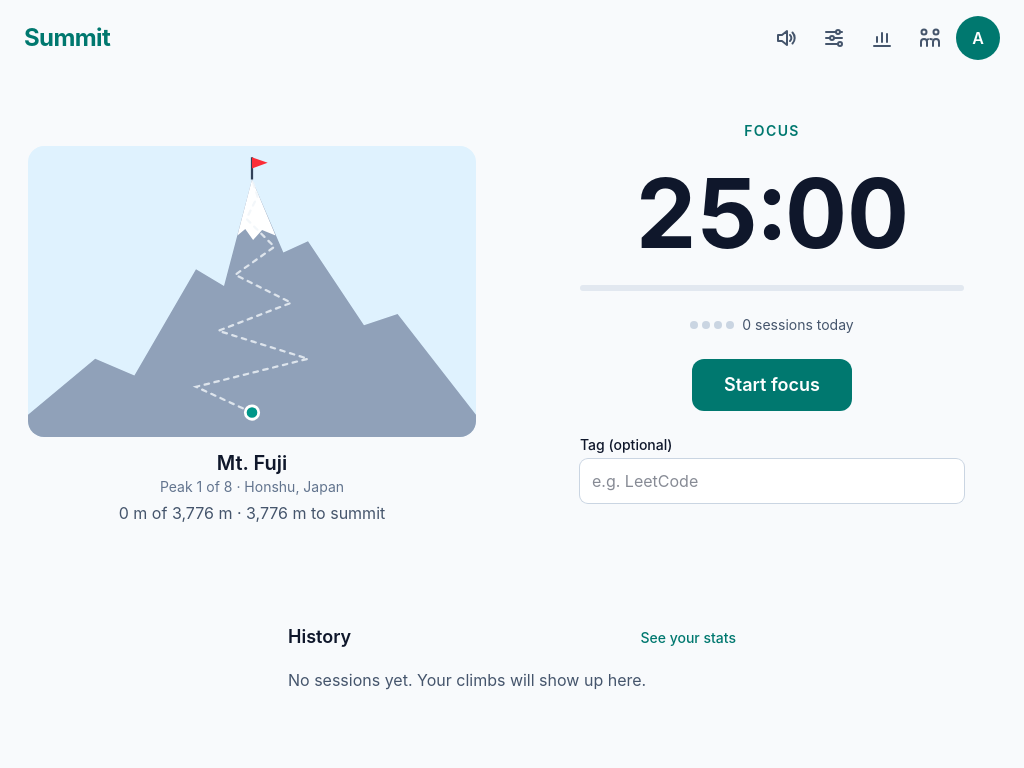
signed in › says so when the server won't accept a session finished offline
The width and height of the screenshot is (1024, 768).
Expected: the link named "Account (Ana)" is shown, [956,16,1000,60]
Expected: the picture named "Climber at" is shown, [28,146,476,437]
Click the button "Start focus" at (772, 384), box [692,358,852,410]
Wait 1500000 ms
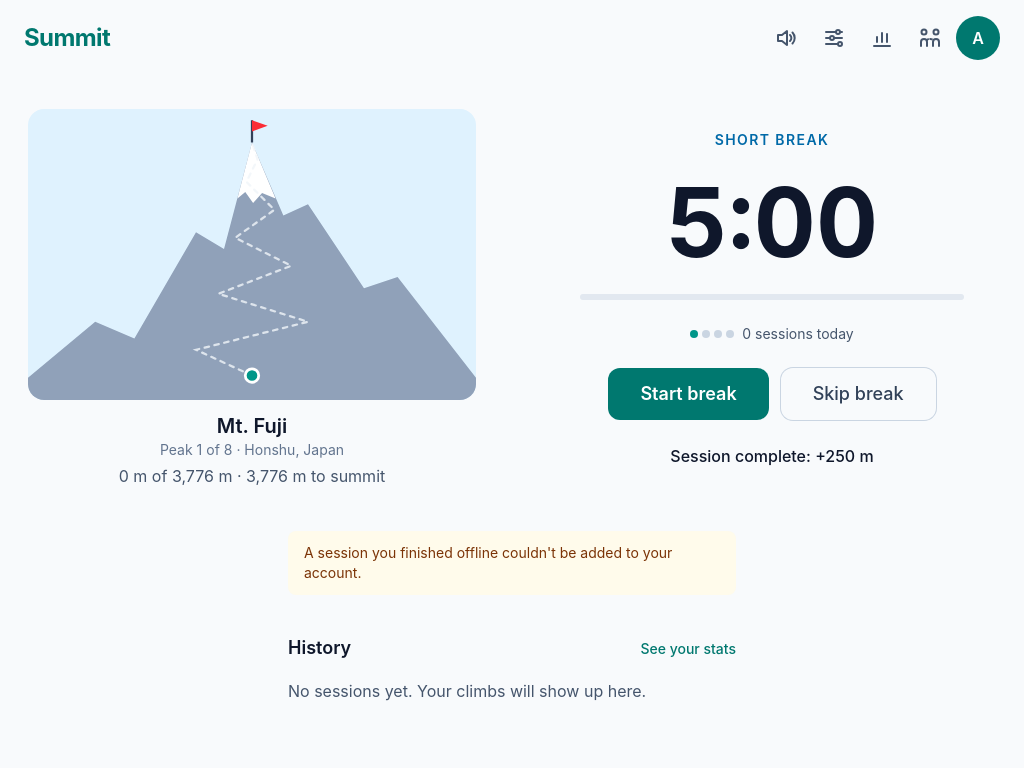
Now the message reads "A session you finished offline couldn't be added to your account.", box [304,544,672,581]
